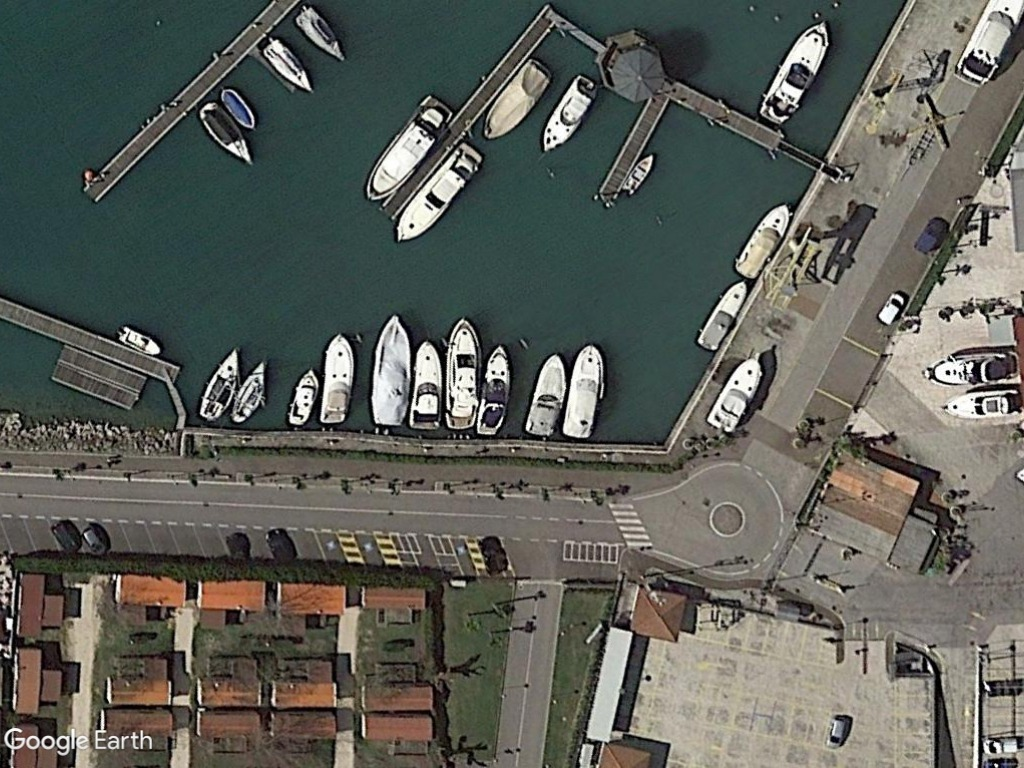boat: (359, 94, 461, 208), (389, 141, 486, 248), (755, 11, 835, 131), (480, 55, 554, 145), (365, 311, 416, 432), (728, 197, 794, 282), (702, 356, 769, 438), (536, 69, 599, 154), (440, 314, 481, 431), (560, 339, 606, 442), (692, 275, 750, 355), (194, 99, 254, 171), (315, 329, 358, 428), (926, 343, 1022, 387), (523, 350, 569, 441), (194, 347, 246, 421), (256, 36, 318, 98), (475, 339, 513, 438), (289, 6, 352, 65), (411, 335, 445, 433), (227, 356, 271, 426), (942, 388, 1024, 420), (284, 362, 320, 430), (620, 149, 658, 203), (216, 84, 259, 131), (113, 321, 165, 357)
car: (824, 712, 852, 753)
van: (873, 287, 908, 329)
